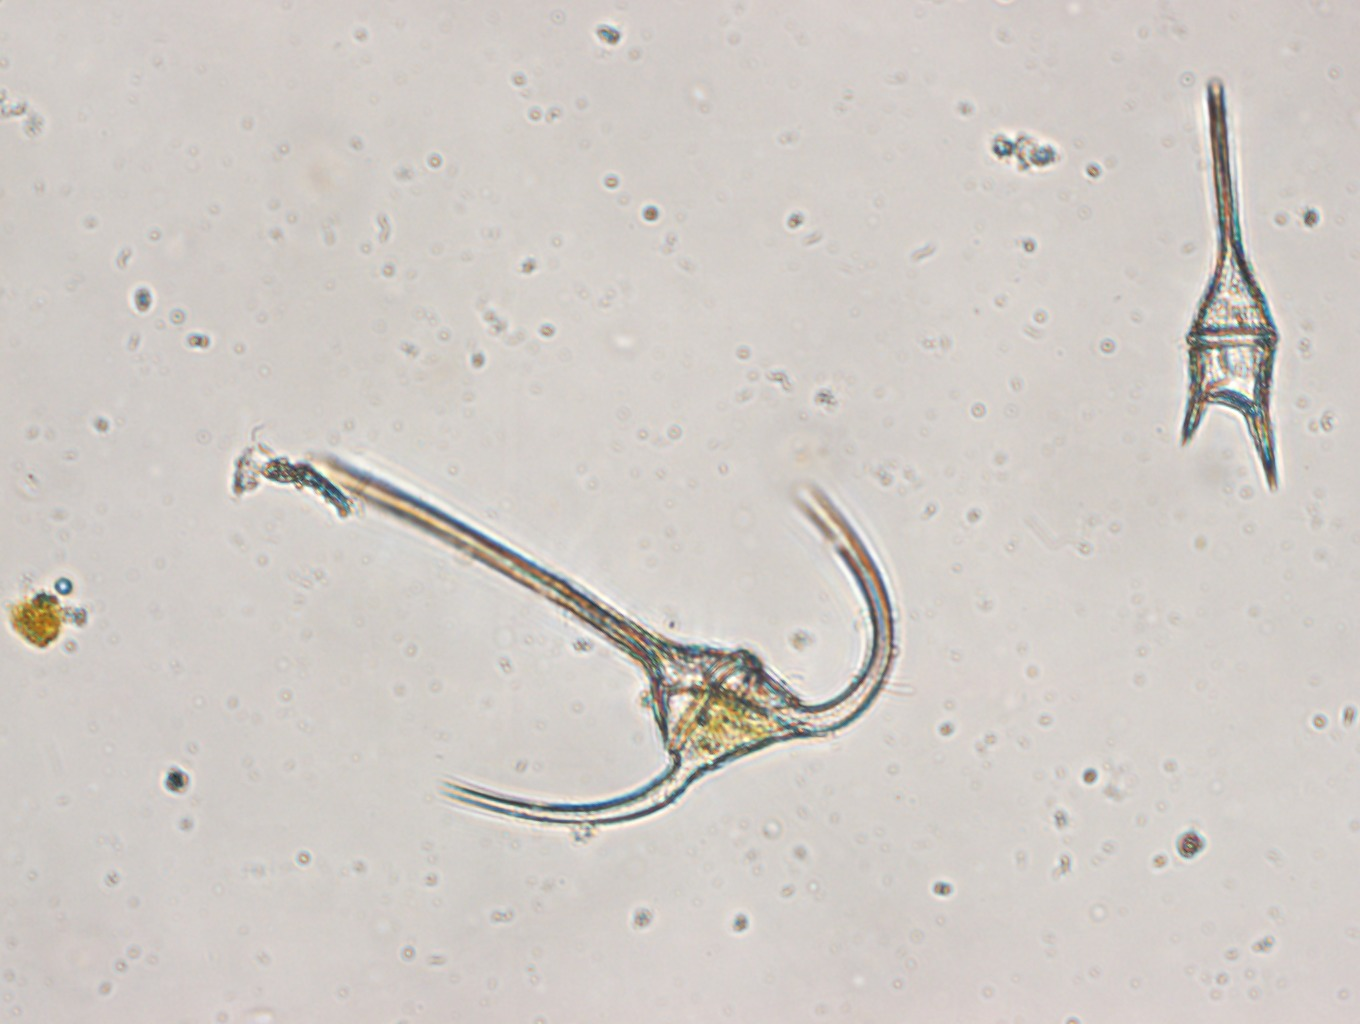ceratium furca: (1166, 68, 1290, 504)
ceratium trichoceros: (299, 449, 898, 830)
